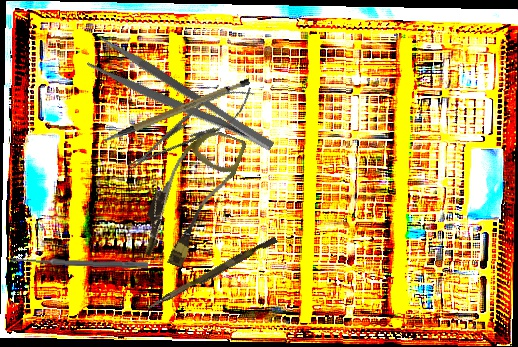Cannula: (133, 117, 248, 275)
Dressing Forceps: (86, 34, 277, 170)
Needle Holder: (119, 75, 261, 183)
Pusher: (146, 233, 278, 315)
Scalpel Handle: (95, 76, 256, 143)
Surgical Spoon: (9, 256, 149, 269)
